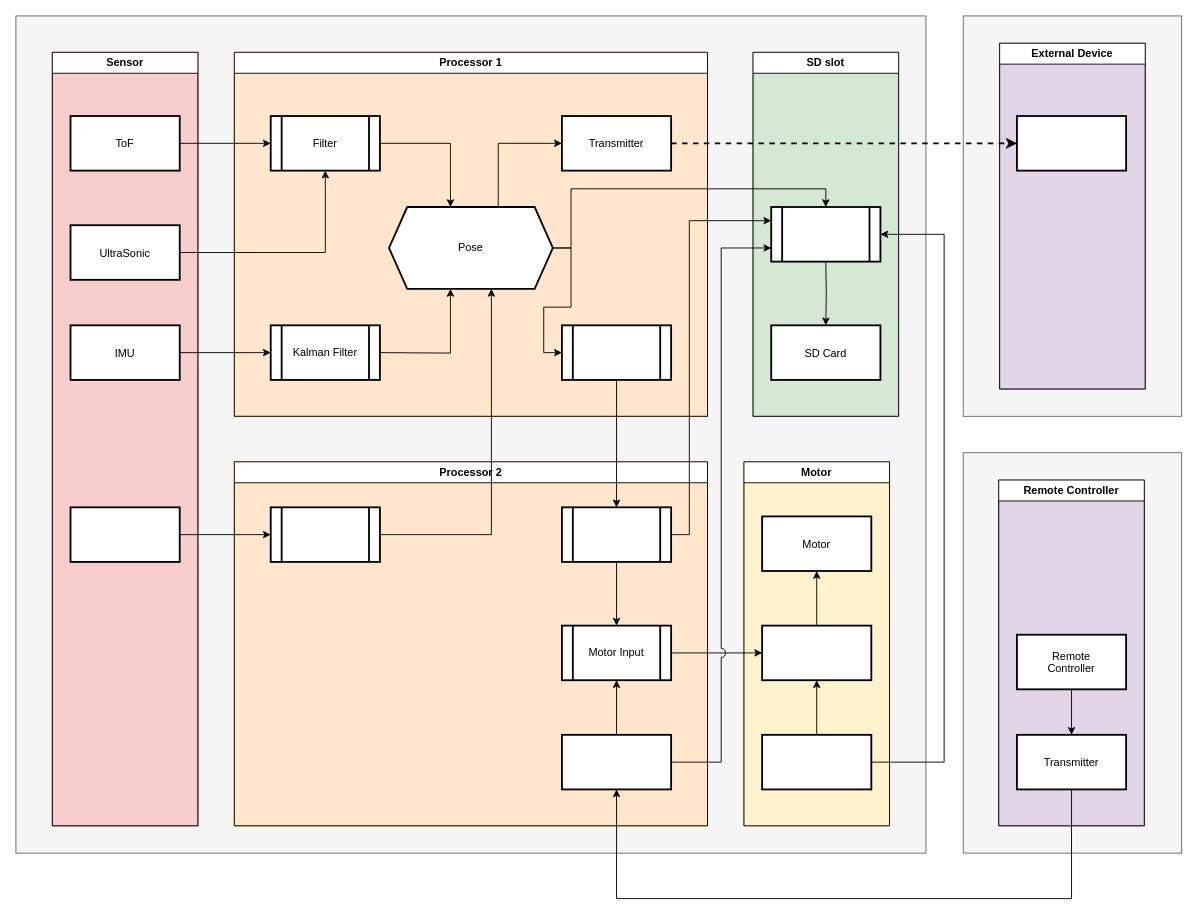
The diagram is 1198 pixels wide and 922 high, and some of its shapes have lost their labels. The centre of each missing label's shape, as x and y in pixels:
Control Tower: point (616, 534)
ESC: point (816, 652)
Event Logger: point (825, 234)
GPS: point (124, 534)
GPS Data Process: point (324, 534)
Monitor: point (1071, 143)
PID Controller: point (616, 352)
Power: point (816, 761)
Receiver: point (616, 761)
